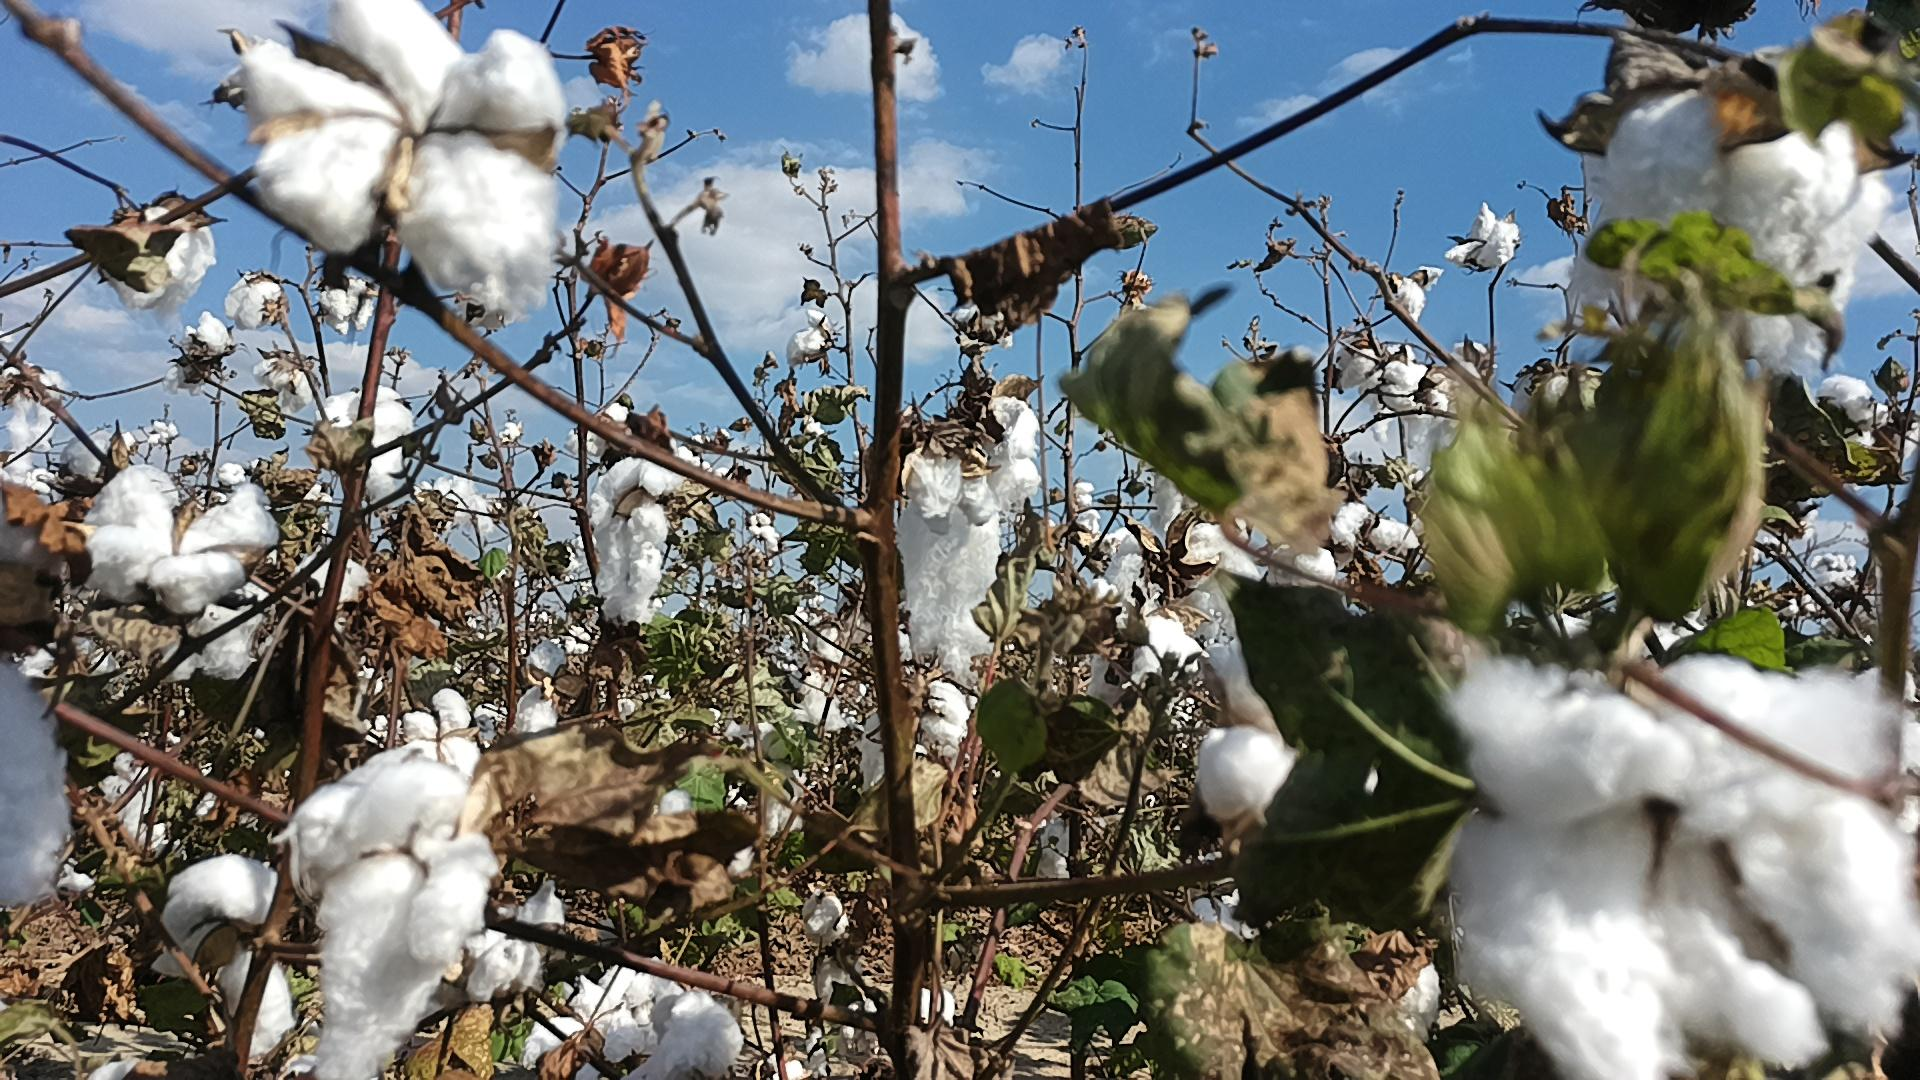cotton_ready: (1437, 647, 1920, 1080), (233, 0, 566, 315), (1568, 86, 1894, 365), (266, 761, 502, 1080), (898, 393, 1048, 679), (74, 465, 278, 618), (1101, 468, 1262, 653), (1188, 636, 1324, 843), (164, 853, 295, 1064), (527, 965, 742, 1080), (588, 446, 705, 626), (857, 630, 969, 803), (0, 658, 70, 903), (440, 876, 568, 1002), (105, 198, 218, 331), (318, 385, 413, 506), (0, 364, 69, 491), (1356, 956, 1445, 1047), (402, 686, 485, 779)
